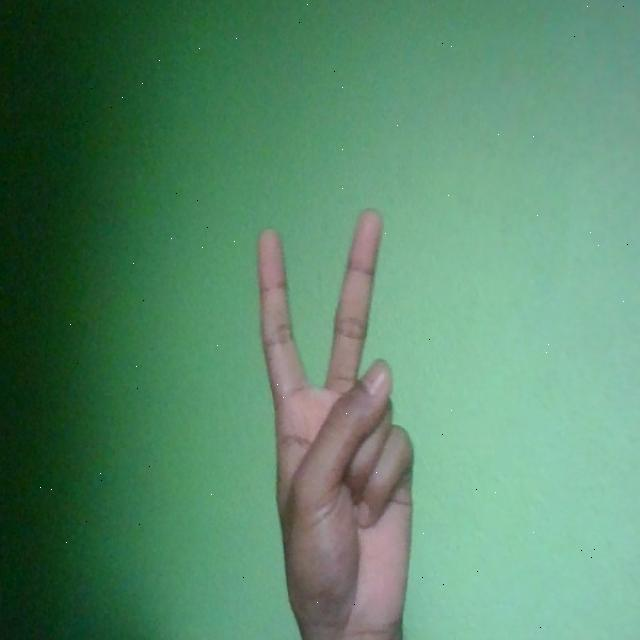Fist: (256, 206, 414, 640)
